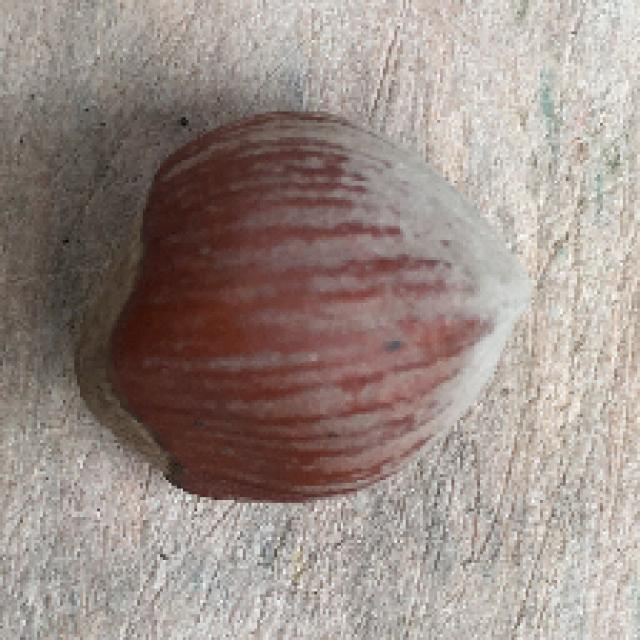QualityHazelnut: (71, 105, 535, 503)
